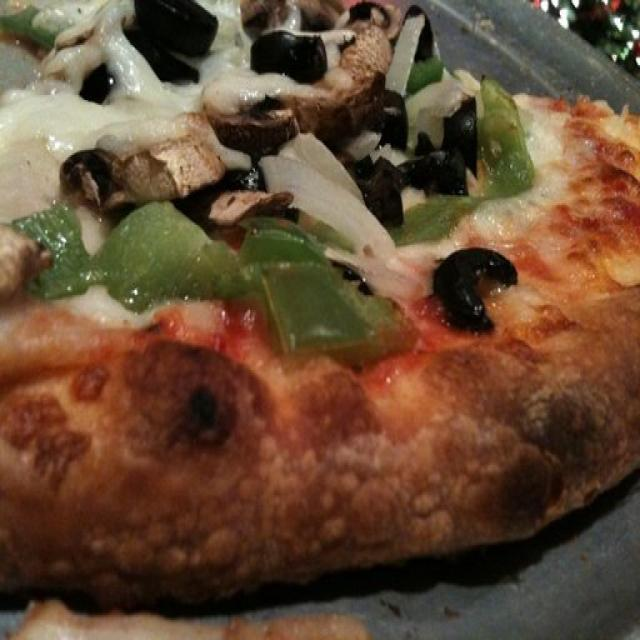Green Pepper: (243, 219, 416, 353), (101, 206, 244, 307), (23, 206, 93, 294), (480, 80, 525, 200), (396, 196, 473, 244), (2, 15, 52, 44), (419, 58, 442, 89)
Mushrooms: (68, 140, 284, 220), (294, 42, 378, 120), (55, 31, 125, 99), (246, 0, 350, 29), (348, 28, 387, 84)
Olives: (130, 0, 212, 81), (437, 246, 511, 329), (424, 107, 477, 195), (324, 89, 410, 142), (354, 147, 410, 223), (250, 32, 328, 75), (217, 107, 294, 144), (411, 10, 436, 50), (346, 6, 387, 25)
